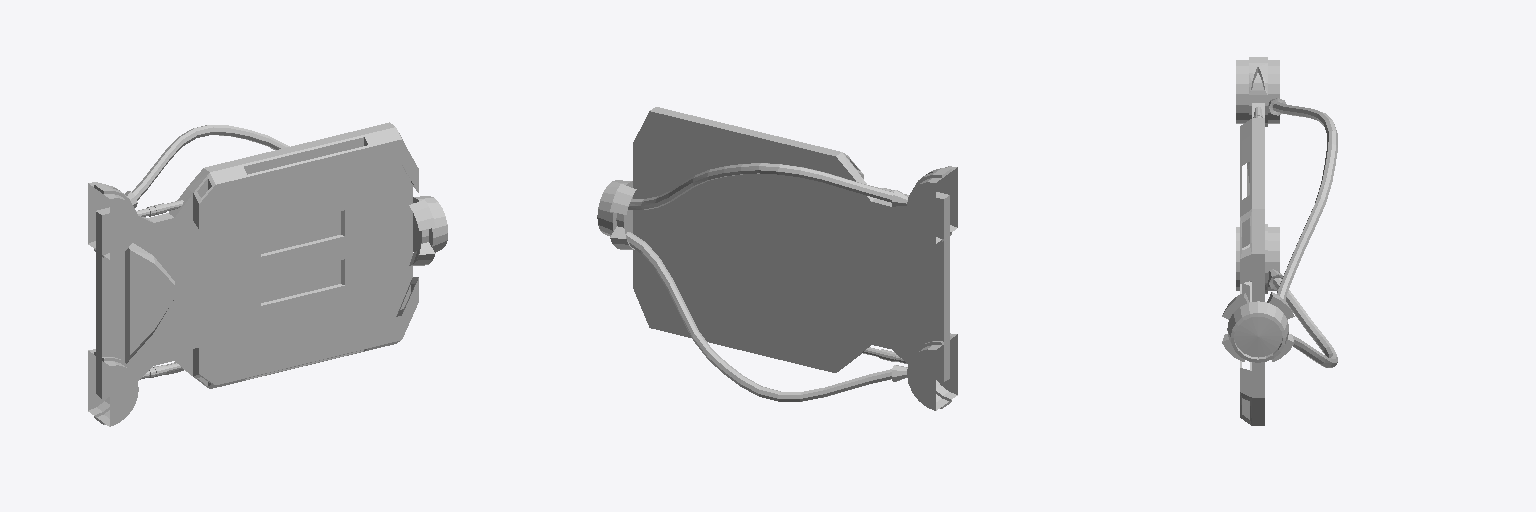
Rendered from Platform.obj.
3 renders of one model, left to right at view 1: azimuth 30°, elevation 25°; view 2: azimuth 150°, elevation 25°; view 3: azimuth 270°, elevation 25°, orthographic.
Parts seen in each view (by area): view 1: Platform; view 2: Platform; view 3: Platform.
Part boxes in pixels (x1,y1,x2,y2): Platform: (88,122,447,426); Platform: (597,107,957,410); Platform: (1222,57,1337,425).
Bounding box in the file's own units: 421 × 284 × 126.